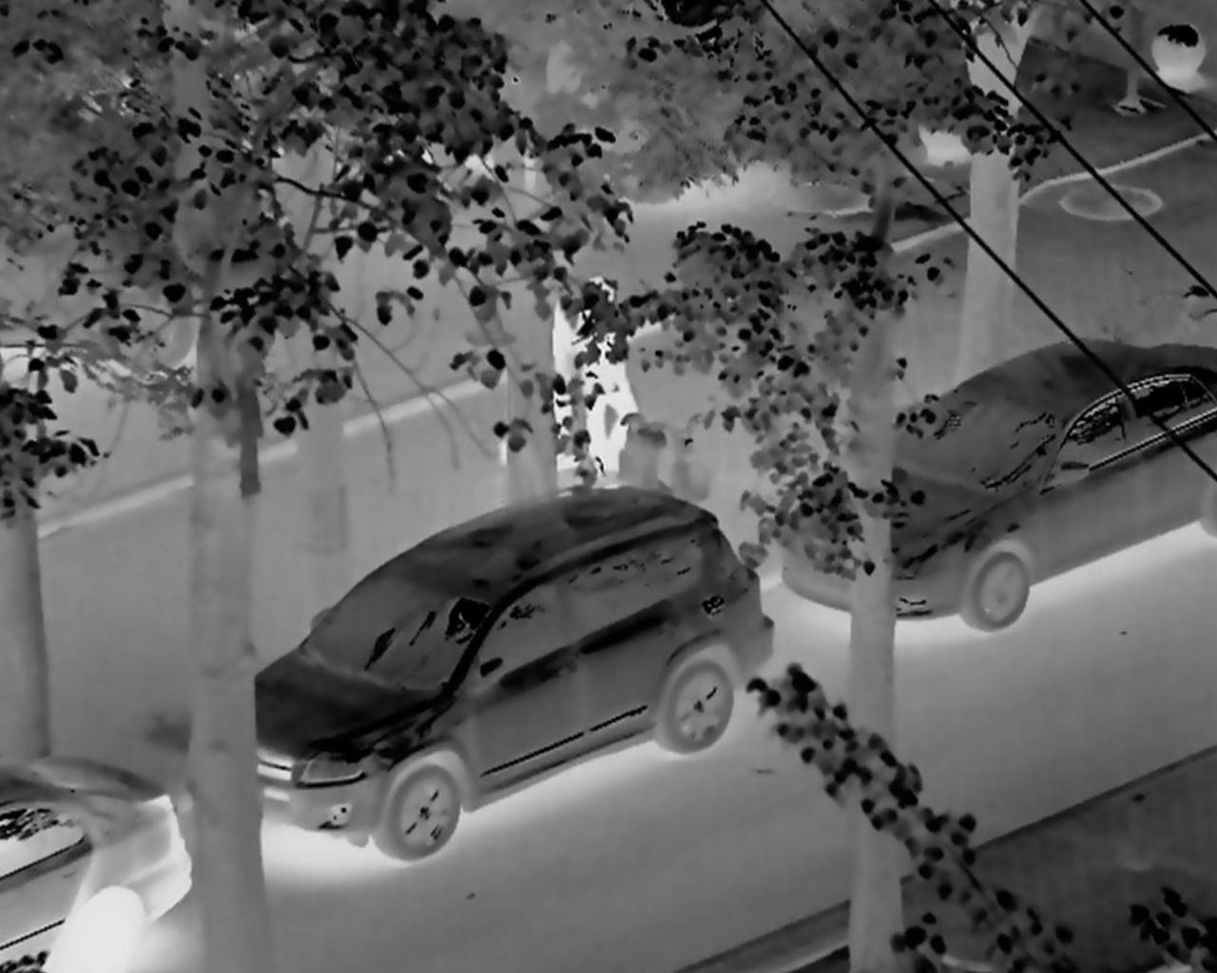person: (533, 263, 666, 509)
